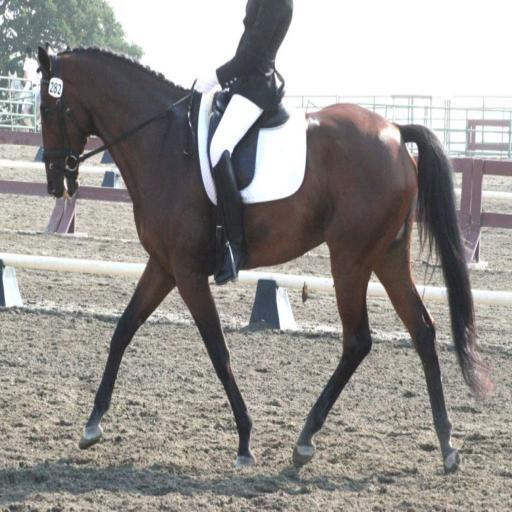horse: (38, 38, 494, 476)
